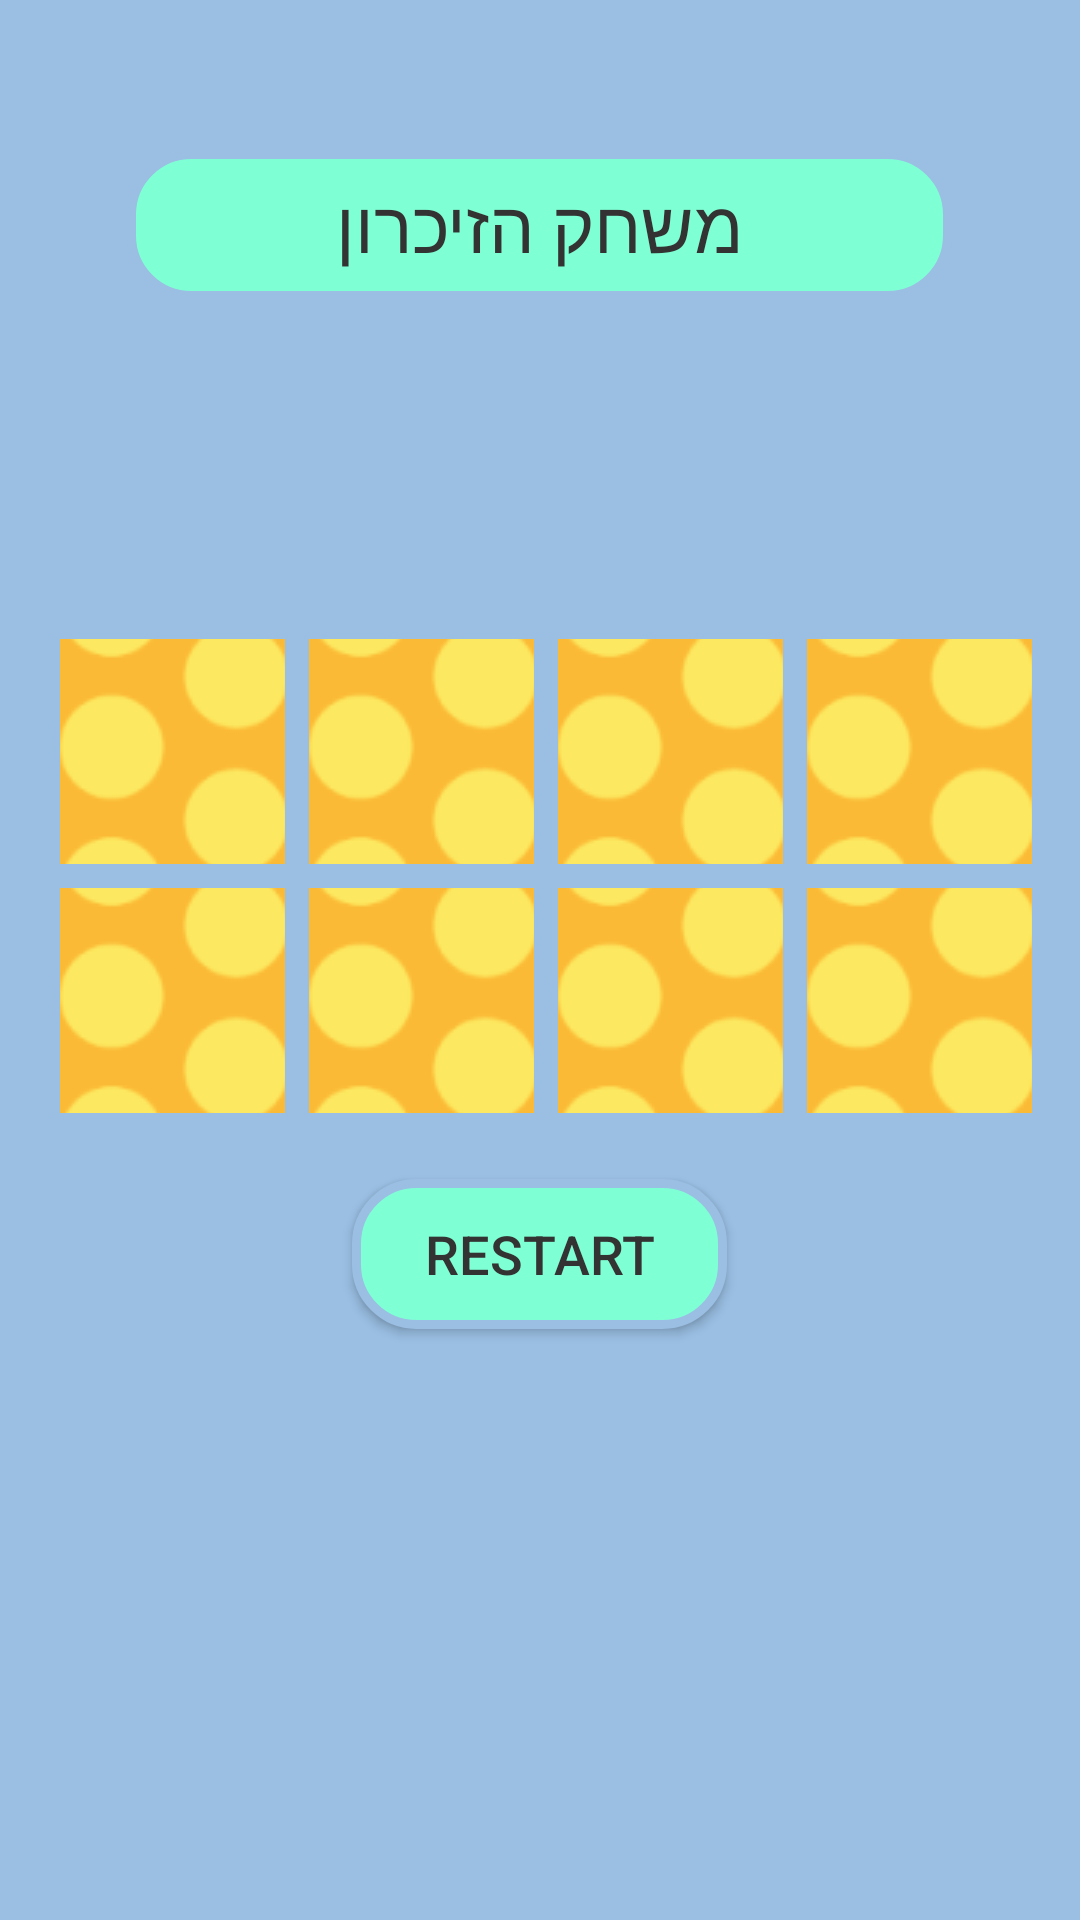

Where to tap for icons on this 1080 × 1920 app screen, as (x=x, y=y):
card back: (x=172, y=751), (x=421, y=751), (x=670, y=751), (x=919, y=751), (x=172, y=1000), (x=421, y=1000), (x=670, y=1000), (x=919, y=1000)
